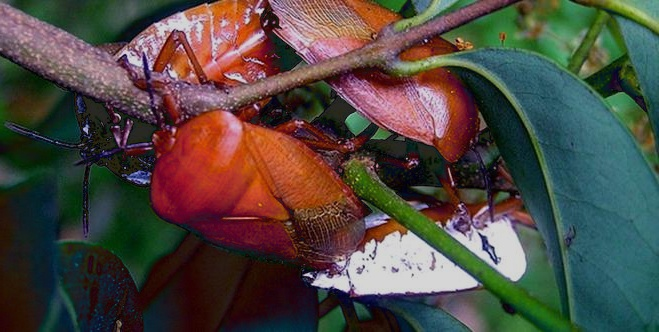Stink_Bug: (84, 6, 283, 161), (144, 109, 308, 278), (301, 0, 478, 151), (319, 181, 534, 287)
